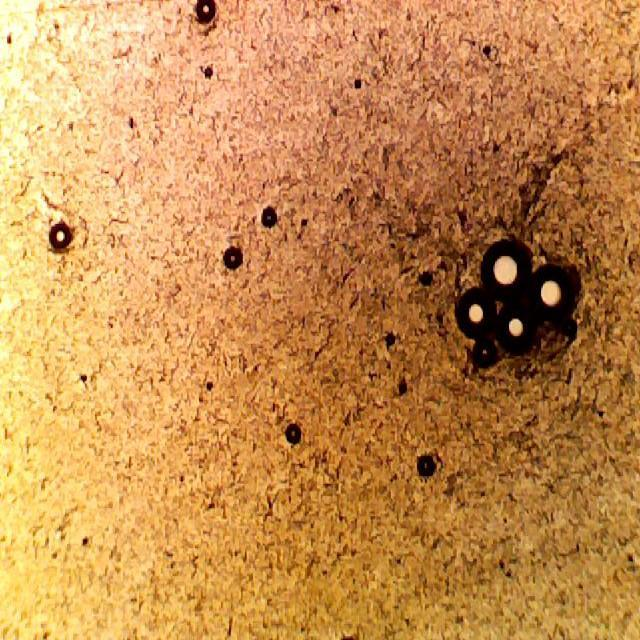microbeads: (48, 222, 76, 258), (414, 448, 442, 484), (286, 418, 302, 446)
